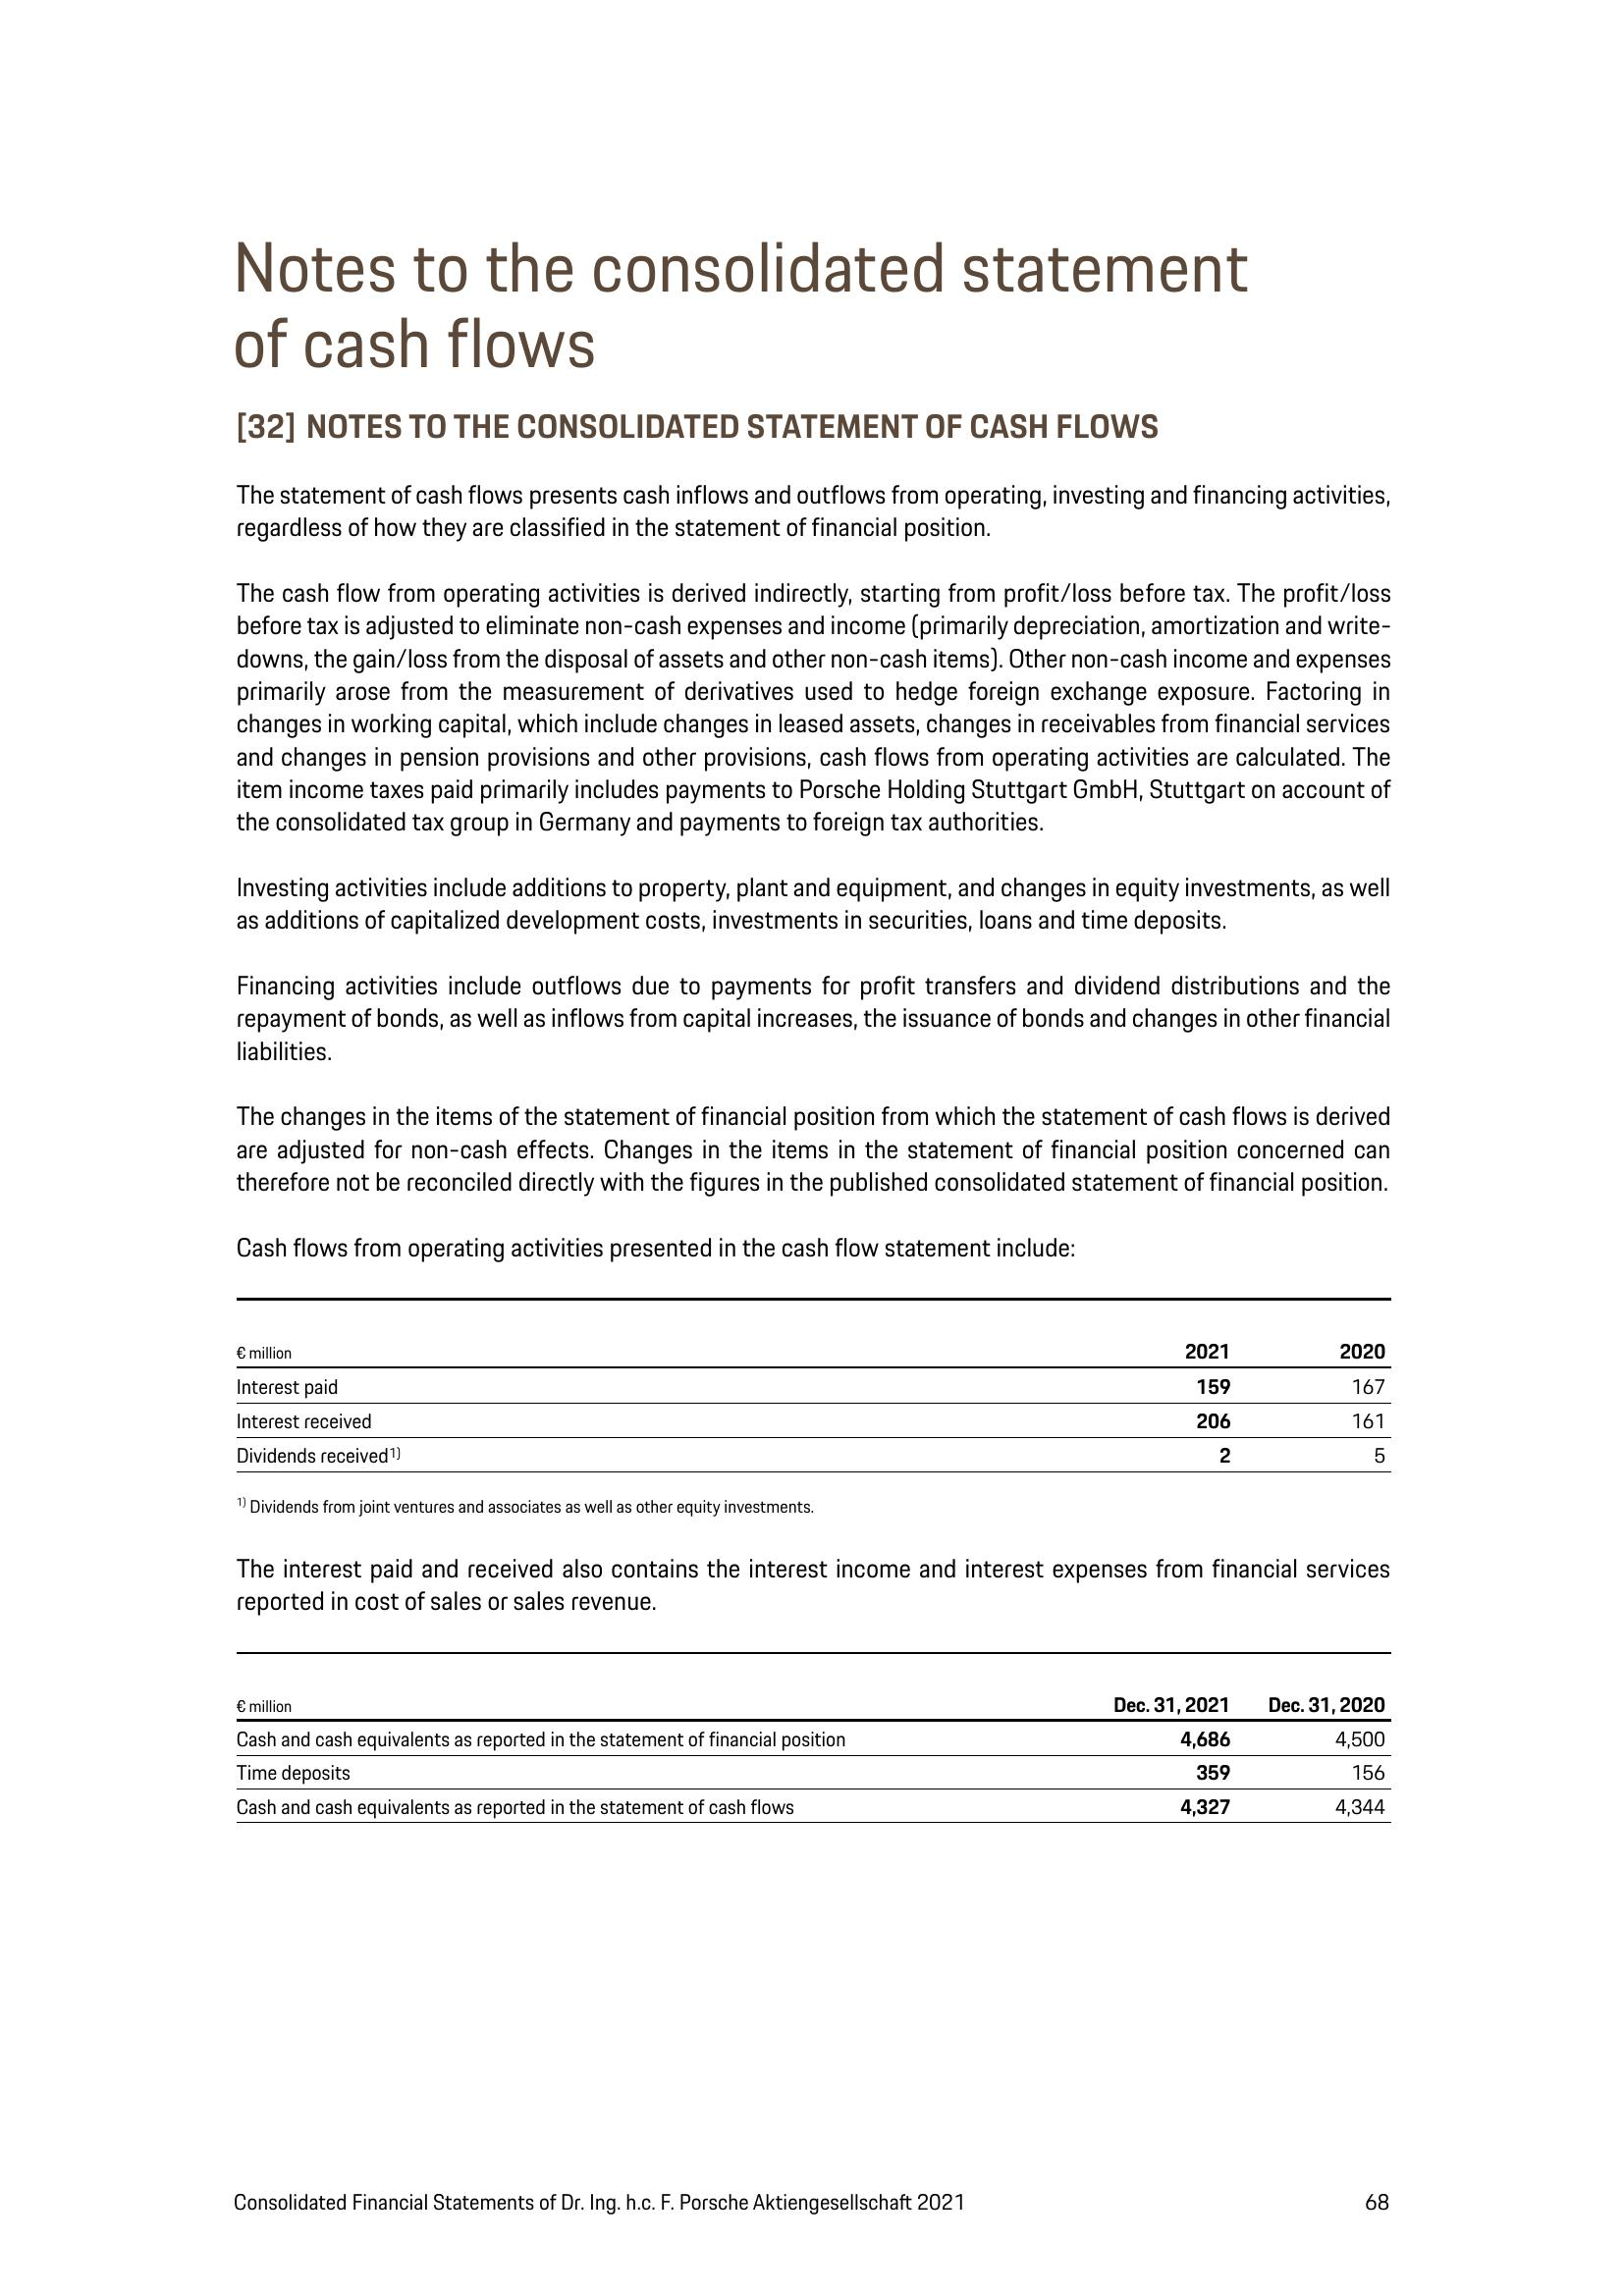Footer: (0, 2131, 1624, 2296)
Header: (0, 0, 1624, 214)
Table: (155, 1607, 1388, 1848), (167, 1293, 1411, 1481)
